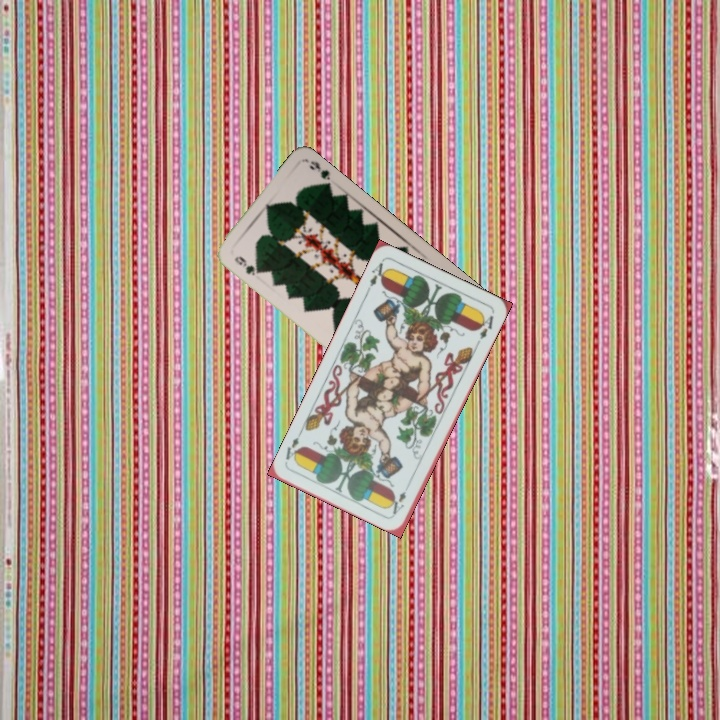EA: (362, 258, 390, 296), (389, 487, 409, 517)
G9: (230, 252, 264, 278)
